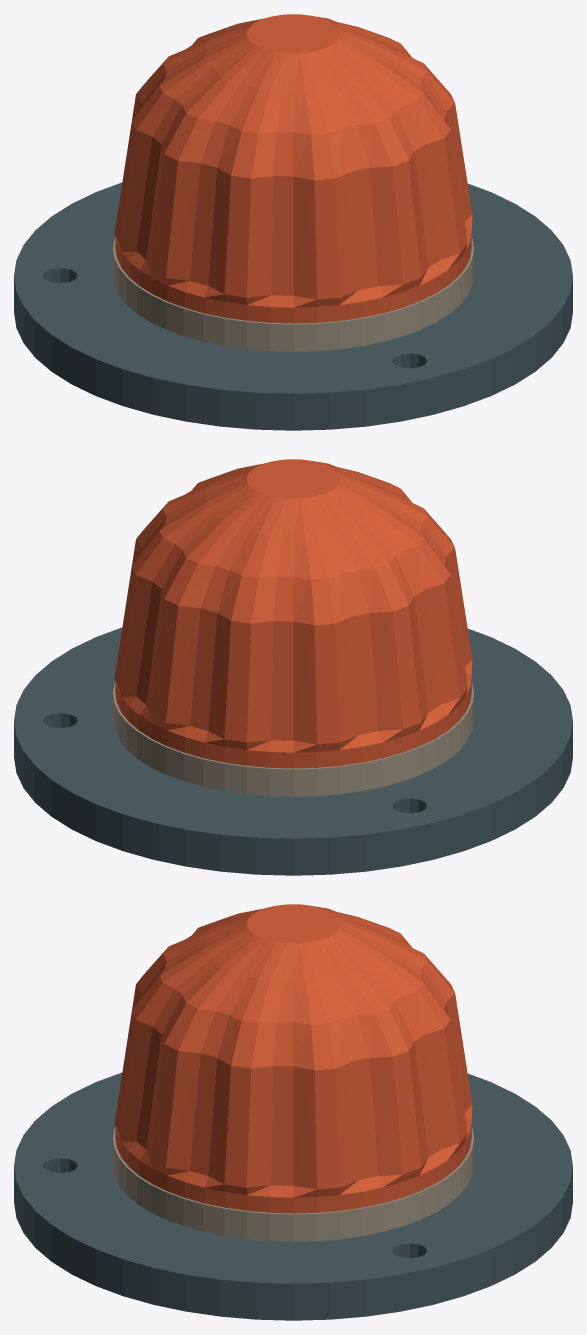
The picture shows the model from 3 angles, top to bottom: view 1: azimuth 30°, elevation 25°; view 2: azimuth 150°, elevation 25°; view 3: azimuth 270°, elevation 25°; orthographic projection.
Visible parts, largest first — view 1: IntegralTwelveRidgeThickBlindDome, ThreeHoleLowMountingDisc, CompleteAnnularRimSeat; view 2: IntegralTwelveRidgeThickBlindDome, ThreeHoleLowMountingDisc, CompleteAnnularRimSeat; view 3: IntegralTwelveRidgeThickBlindDome, ThreeHoleLowMountingDisc, CompleteAnnularRimSeat.
Part boxes in pixels (bbox=[...]): IntegralTwelveRidgeThickBlindDome: bbox=[114, 14, 472, 323]; ThreeHoleLowMountingDisc: bbox=[14, 182, 572, 430]; CompleteAnnularRimSeat: bbox=[113, 237, 473, 351]; IntegralTwelveRidgeThickBlindDome: bbox=[114, 459, 472, 768]; ThreeHoleLowMountingDisc: bbox=[14, 627, 572, 875]; CompleteAnnularRimSeat: bbox=[113, 682, 473, 796]; IntegralTwelveRidgeThickBlindDome: bbox=[114, 904, 472, 1213]; ThreeHoleLowMountingDisc: bbox=[14, 1072, 572, 1320]; CompleteAnnularRimSeat: bbox=[113, 1127, 473, 1241].
Size of the model in its own units: 0.48 by 0.264 by 0.48.
